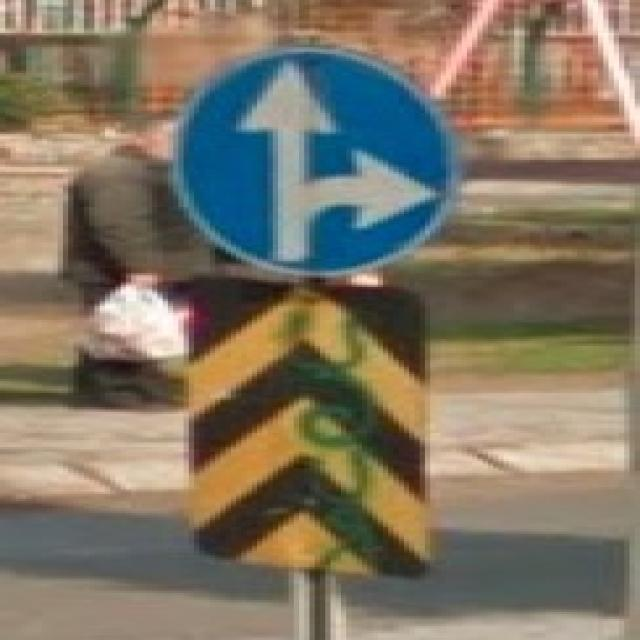Straight or Right: (169, 52, 457, 278)
